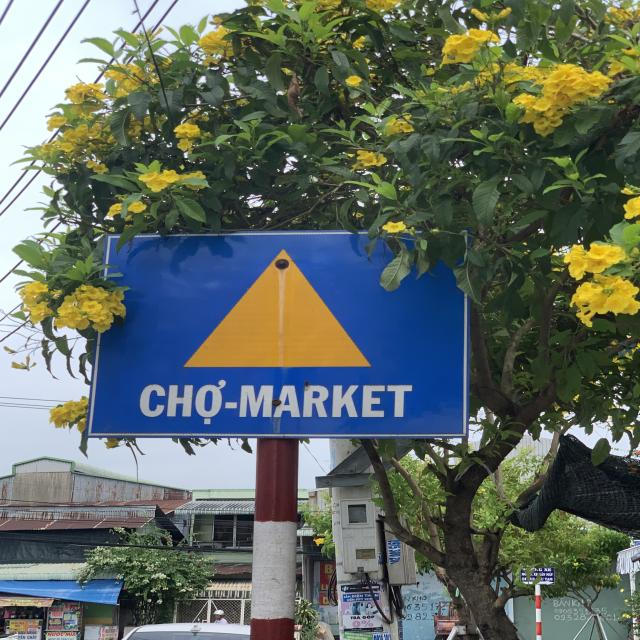Cho_Quay_Xe: (103, 234, 472, 438)
